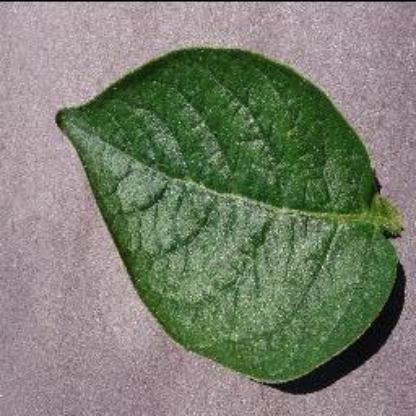Healthy-plant: (48, 26, 405, 398)
